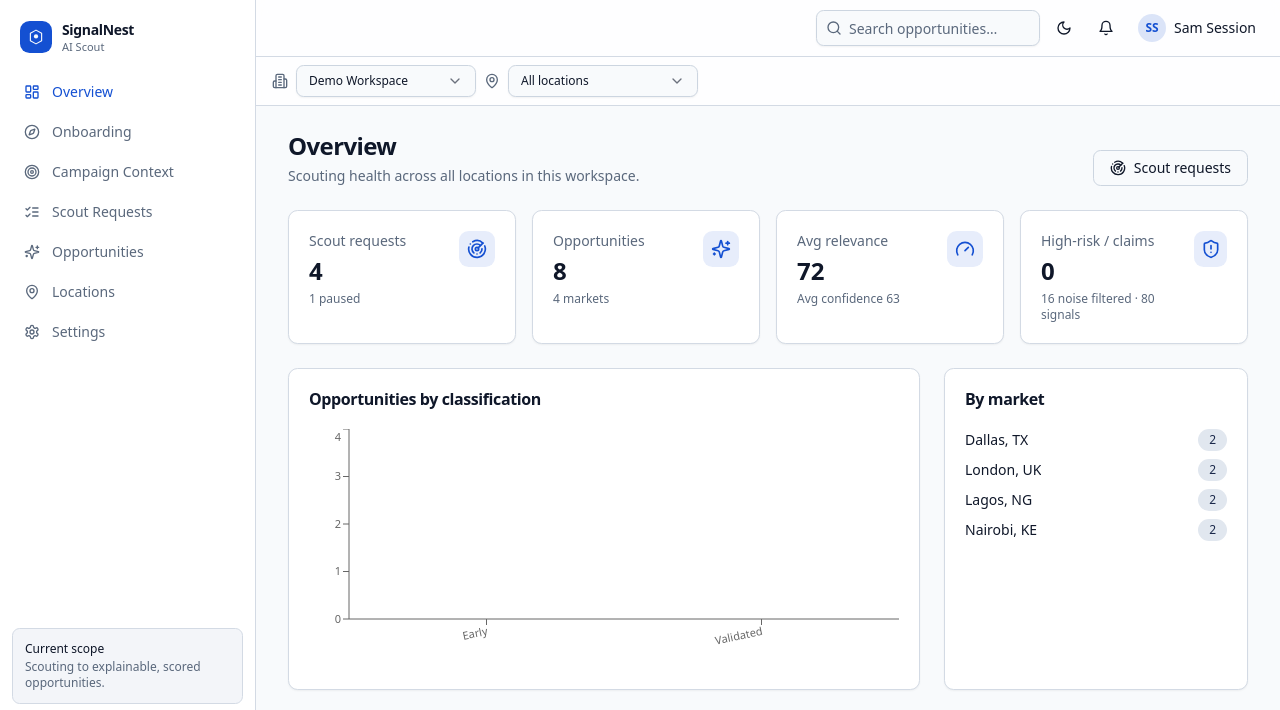
Test case: a session that ends while the app is open (P6-UI-013) › does not say it after a fresh sign-in has replaced the ended session
The width and height of the screenshot is (1280, 710).
Click the link "Settings".
click(65, 331)  # box [24,322,105,341]
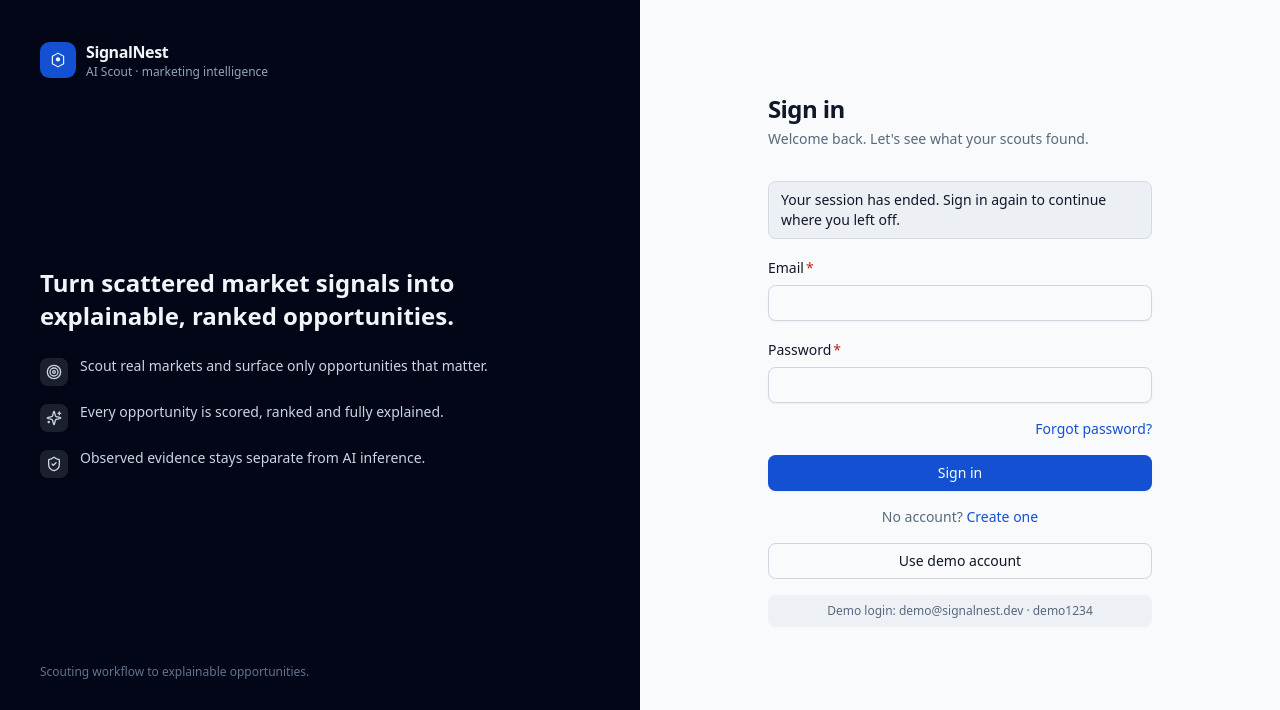
Check: the text "Your session has ended. Sign in again to continue where you left off." is shown, box [768,181,1152,239]
Type "sam@example.com" into the field labelled "Email*".
click(960, 303); type("sam@example.com")  # box [768,285,1152,321]
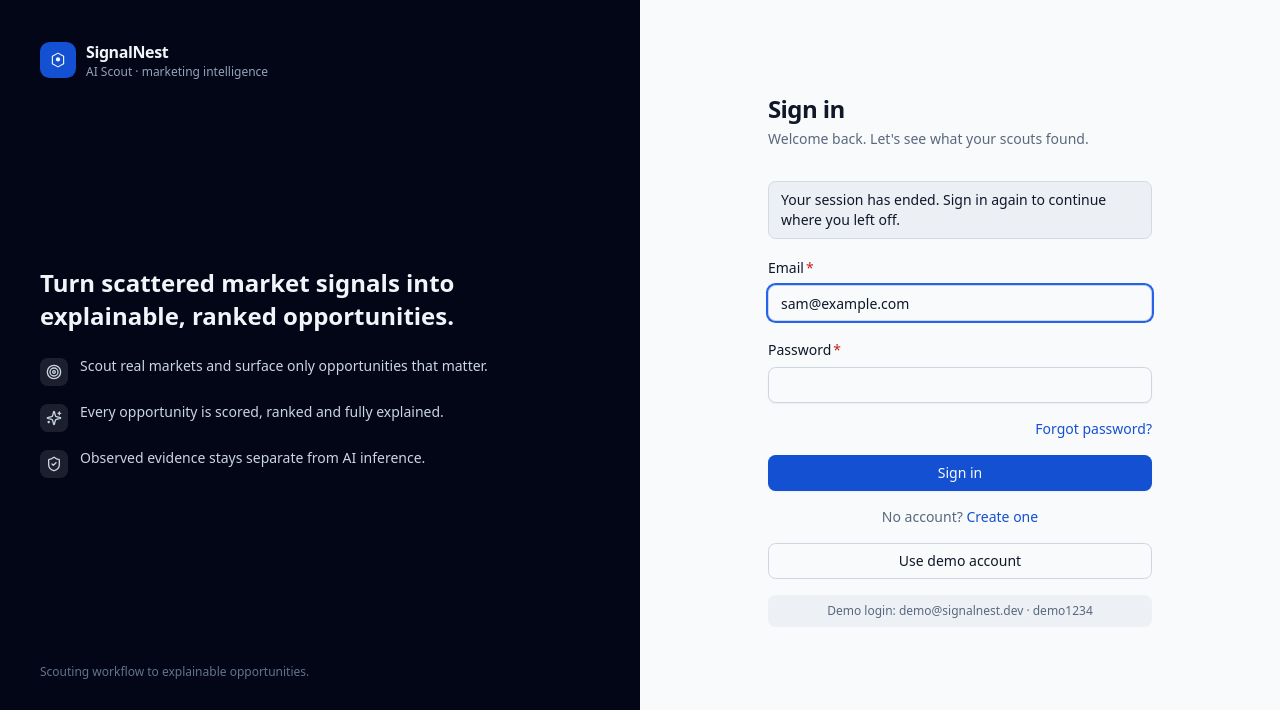
Type "sam password 1" into the password field labelled "Password*".
click(960, 385); type("sam password 1")  # box [768,367,1152,403]
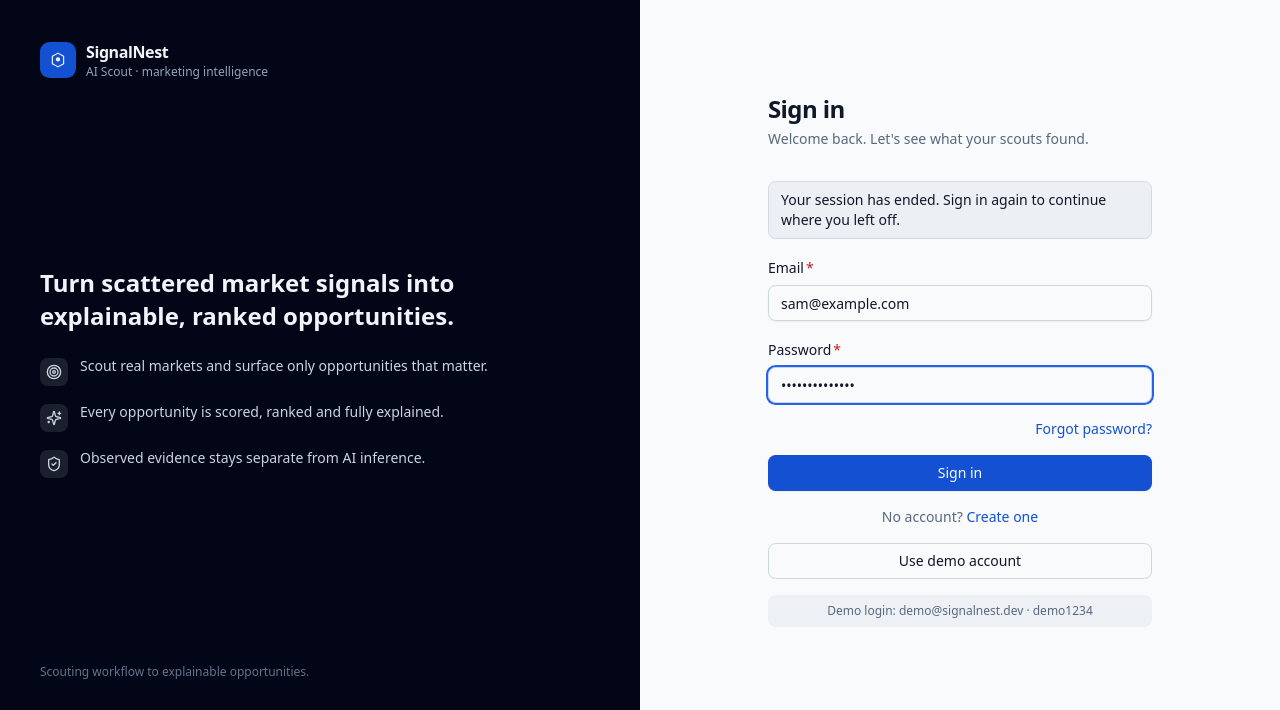
Click the button "Sign in".
click(960, 473)  # box [768,455,1152,491]
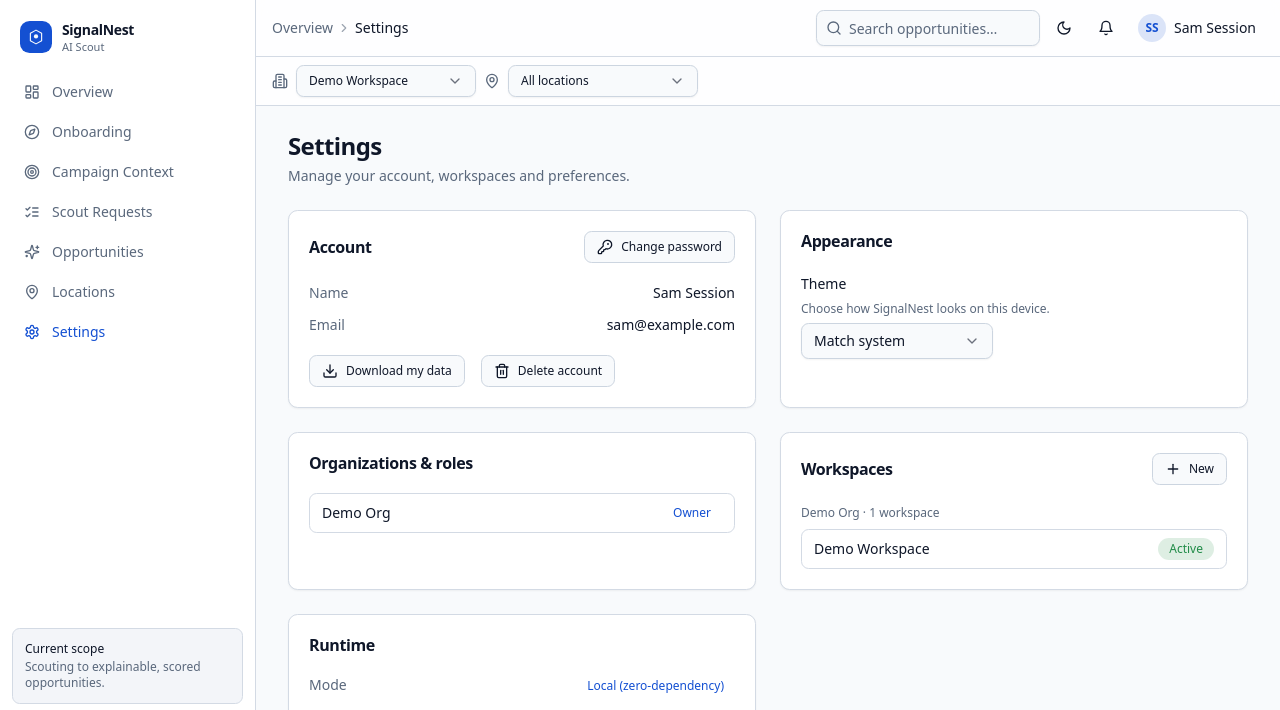
Click the button with aria-label "account menu".
click(1197, 28)  # box [1130,10,1264,46]
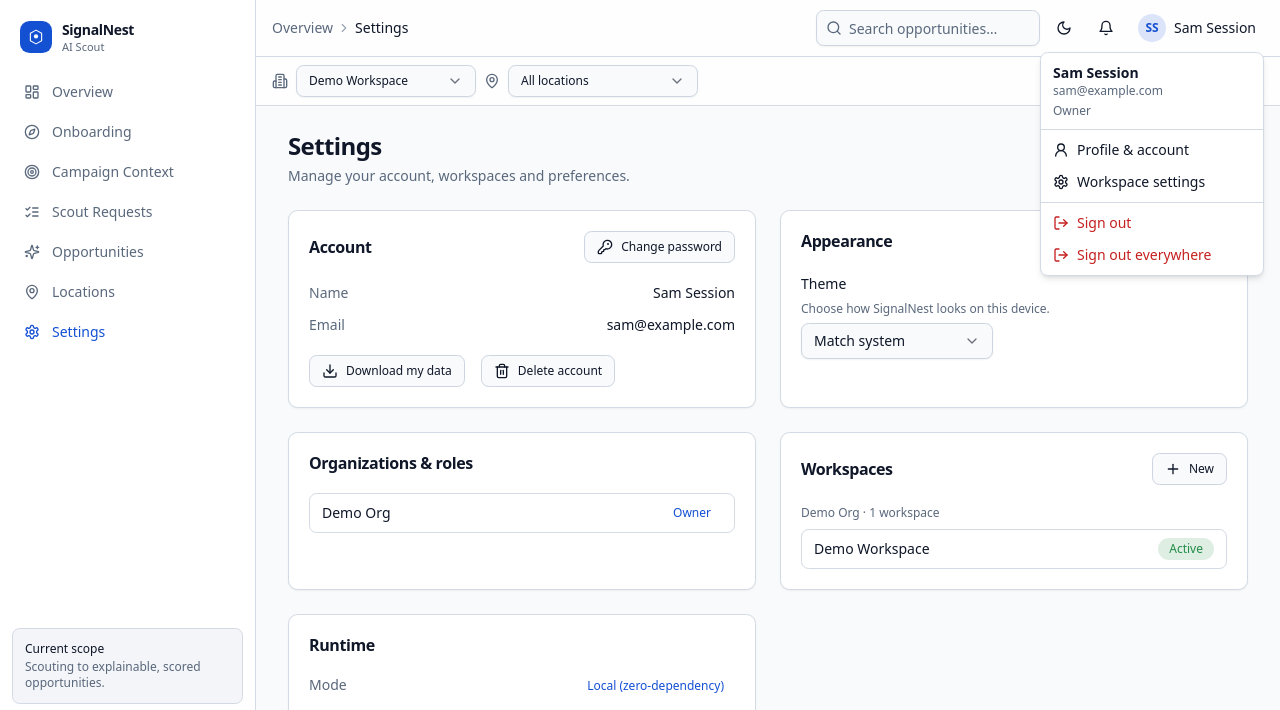
Click the menu item "Sign out".
click(1092, 222)  # box [1053,213,1131,232]
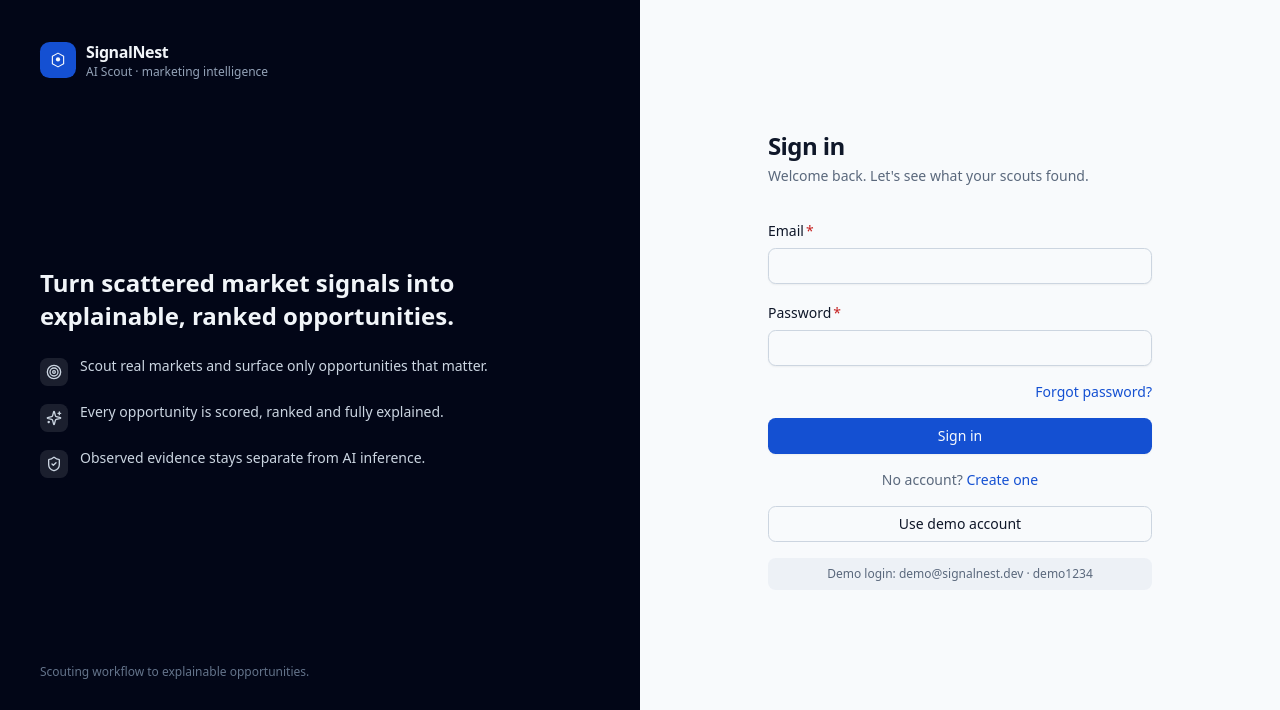
Check: the text "Your session has ended" is not shown
Check: the button "Sign in" is shown, box [768,418,1152,454]
